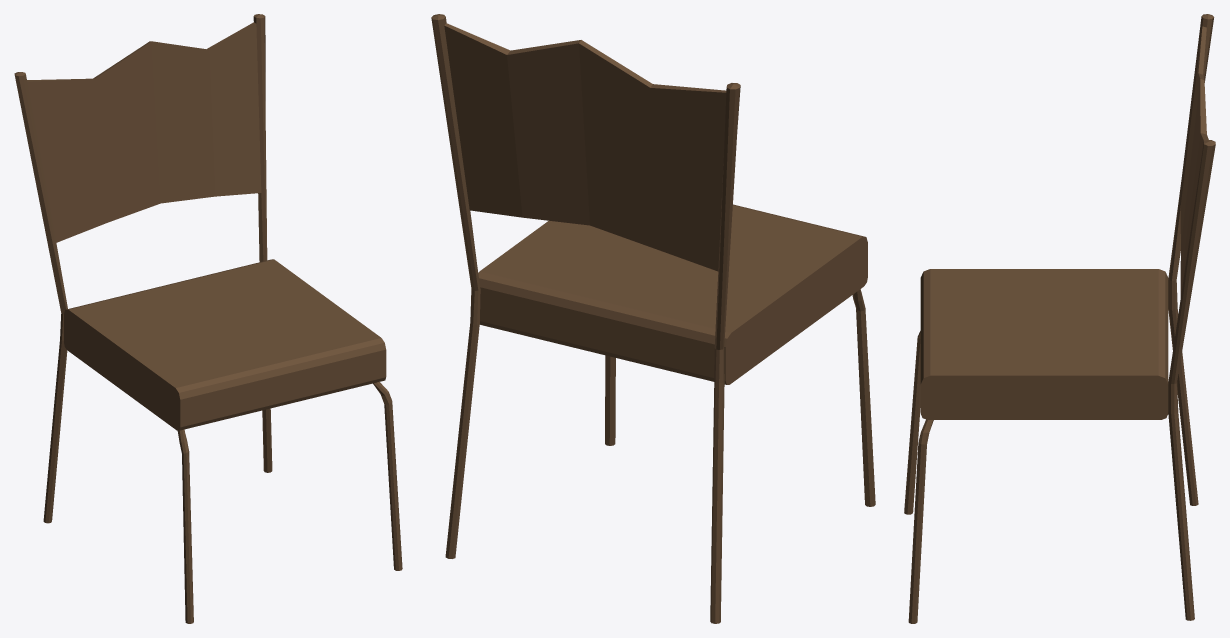
File: cadeira.fbx
3 renders of one model, left to right at view 1: azimuth 30°, elevation 25°; view 2: azimuth 150°, elevation 25°; view 3: azimuth 270°, elevation 25°, orthographic. The views are drawn at different scales.
Parts seen in each view (by area): view 1: Cadeira; view 2: Cadeira; view 3: Cadeira.
Boxes of the visible parts, x1,y1,x2,y2 form: Cadeira: (14,14,402,623); Cadeira: (431,14,875,623); Cadeira: (904,14,1215,623).
Bounding box in the file's own units: 134 × 233 × 136.
